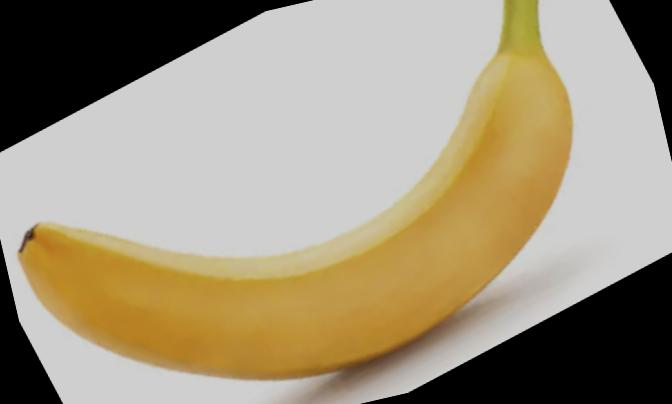Banana Ripe: (2, 24, 672, 404)
